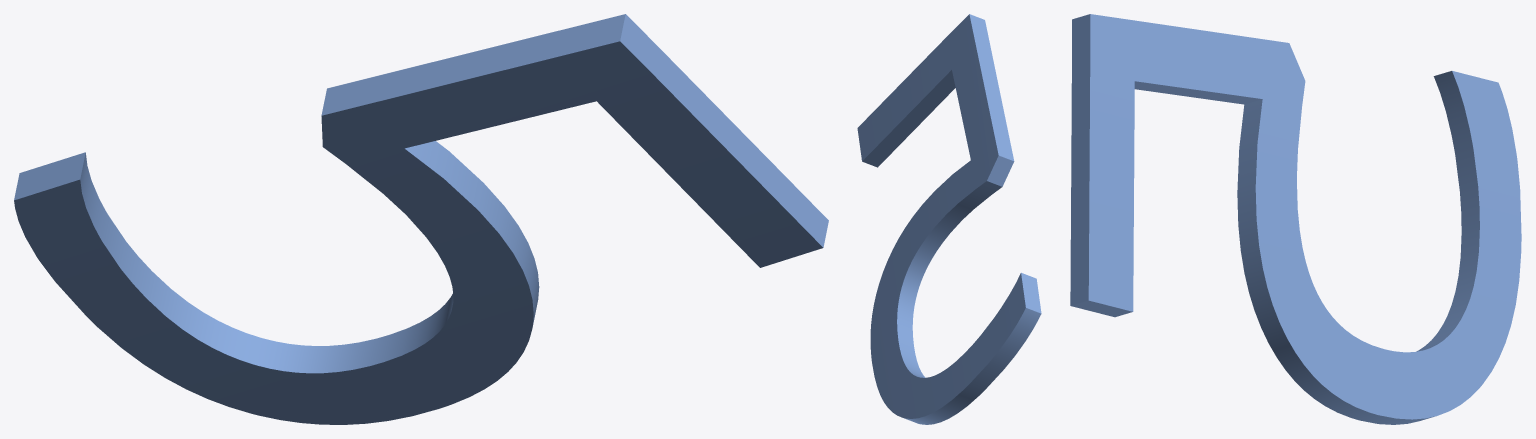
File: New_Number_5.gltf
3 renders of one model, left to right at view 1: azimuth 30°, elevation 25°; view 2: azimuth 150°, elevation 25°; view 3: azimuth 270°, elevation 25°, orthographic. The views are drawn at different scales.
Parts seen in each view (by area): view 1: Part 176; view 2: Part 176; view 3: Part 176.
Boxes of the visible parts, <box> form: Part 176: <box>14,14,828,424</box>; Part 176: <box>857,14,1041,424</box>; Part 176: <box>1070,14,1521,424</box>.
Size of the model in its own units: 0.00494 by 0.00447 by 0.00416.
